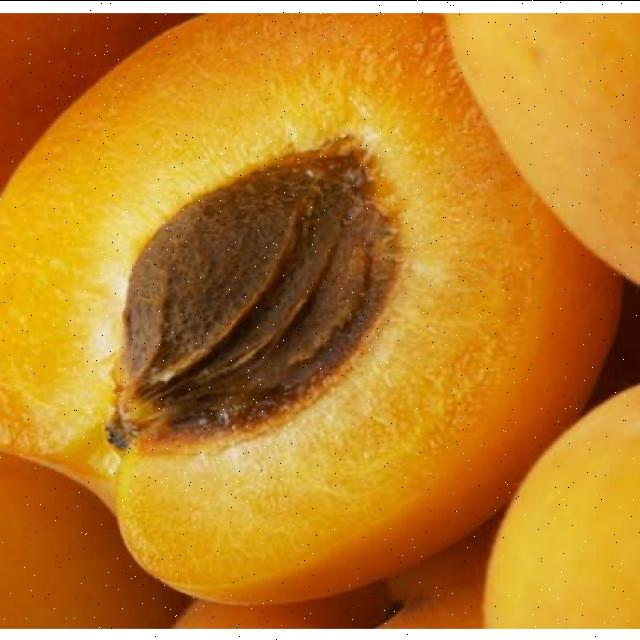Cekirdek: (106, 148, 395, 449)
Kayisi: (0, 13, 621, 600)
